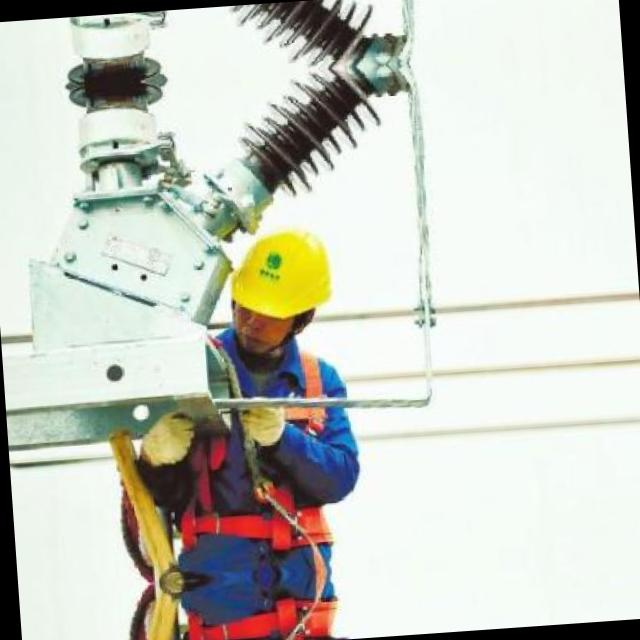helmet: (216, 200, 342, 368)
